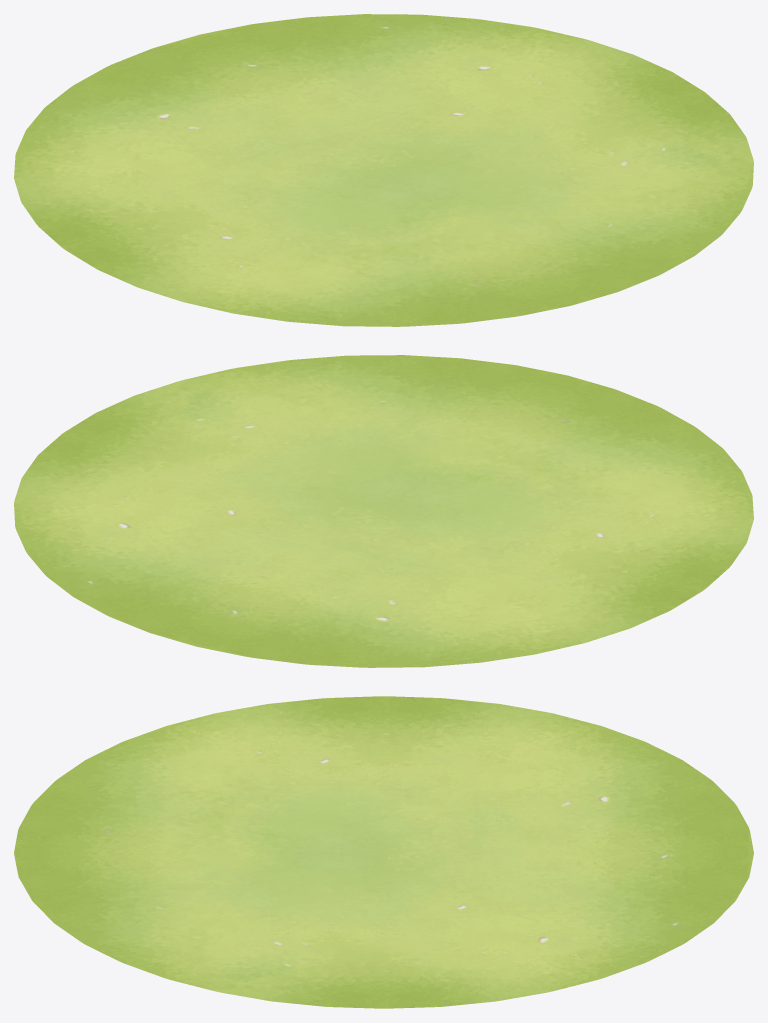
The model's file is standardterrain_2.FBX.
3 views of the same model, one above another, from view 1: azimuth 30°, elevation 25°; view 2: azimuth 150°, elevation 25°; view 3: azimuth 270°, elevation 25° (orthographic).
Visible parts, largest first — view 1: 1, 2; view 2: 1, 2; view 3: 1, 2.
Boxes of the visible parts, x1,y1,x2,y2 form: 1: (22, 18, 744, 323); 2: (14, 14, 753, 326); 1: (23, 359, 745, 664); 2: (14, 355, 753, 667); 1: (49, 710, 718, 993); 2: (14, 696, 753, 1008).
Size of the model in its own units: 282 by 2.78e-05 by 282.
